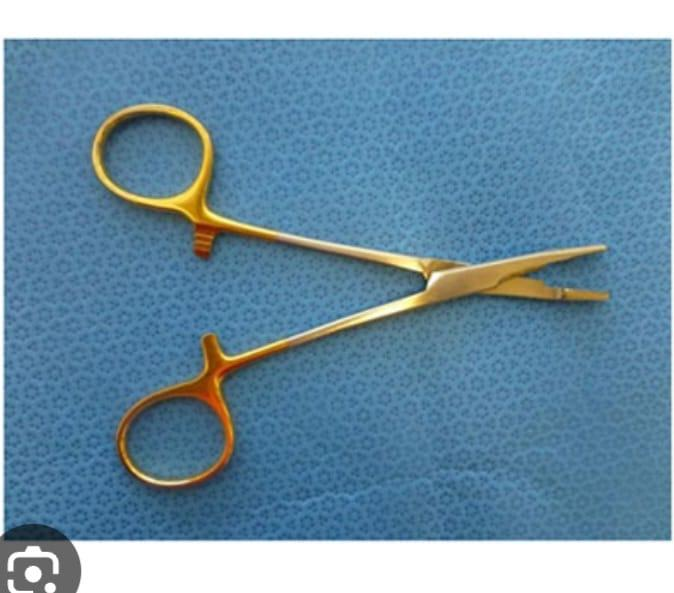Needle Holder: (84, 102, 620, 496)
